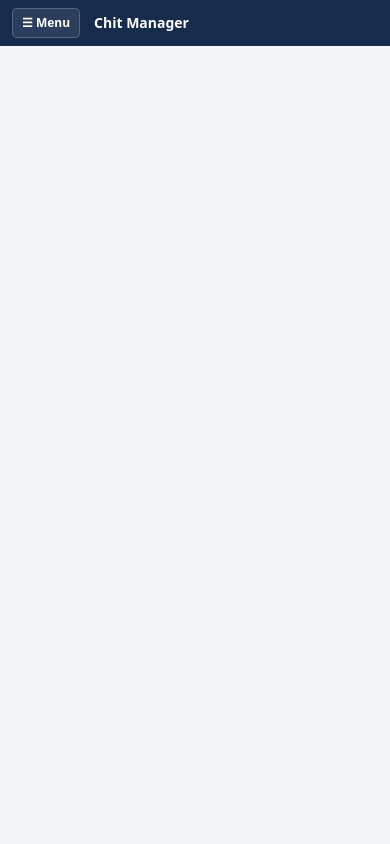
Scenario: navigation opens and closes the phone menu, changes routes and marks the current page
Click the button with aria-label "Toggle navigation": click(46, 23) [12, 8, 80, 38]
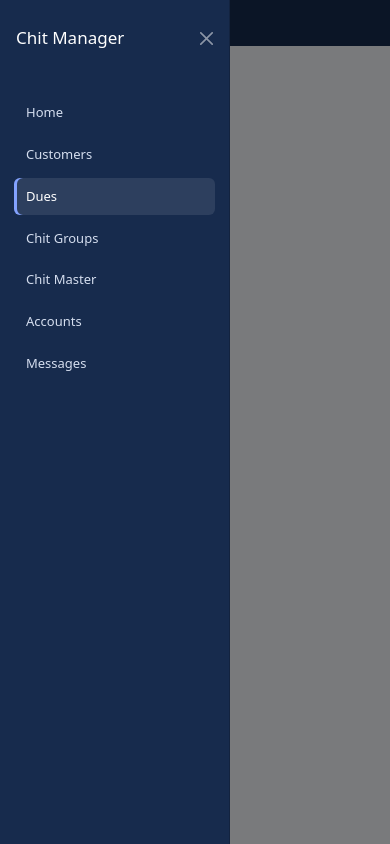
Now the navigation bar named "Main navigation" is shown, box [14, 94, 215, 382]
Now the button with aria-label "Toggle navigation" is expanded, box [12, 8, 80, 38]
Click the link "Customers": click(59, 154) [26, 145, 92, 163]
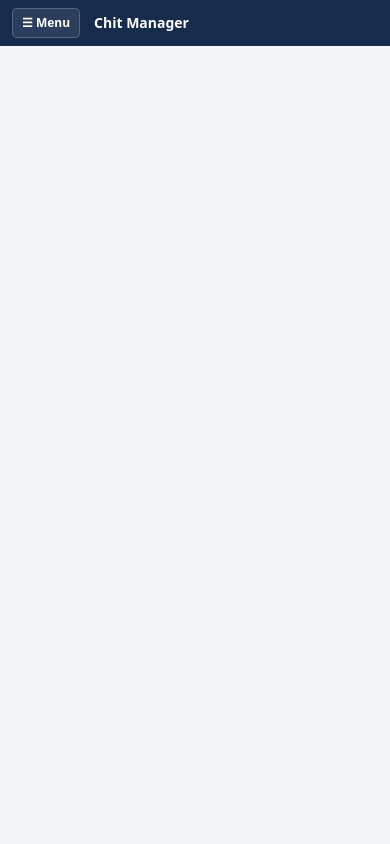
Now the button with aria-label "Toggle navigation" is collapsed, box [12, 8, 80, 38]
